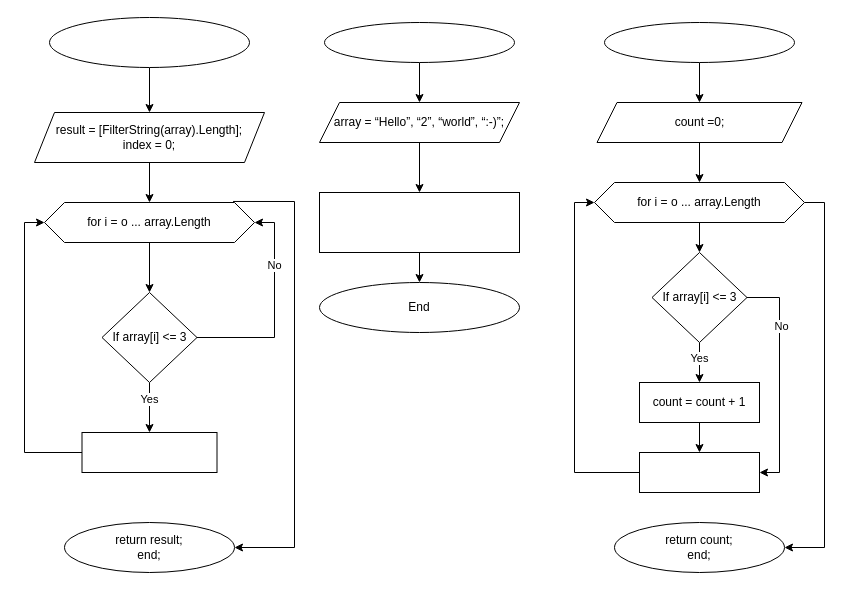
This 850x590 diagram has some shape labels left out. Here are the shapes that lost their labels. From the top down, the box of each, then its label:
(48, 16, 250, 68): Start CreatingNewArray(array)
(324, 22, 514, 62): Start
(604, 22, 794, 62): Start FilterString(array)
(318, 192, 520, 252): Output(CreatingNewArray(array);
(81, 432, 217, 472): result[index] = array[i]; index = index + 1;
(638, 452, 760, 492): i = i + 1
